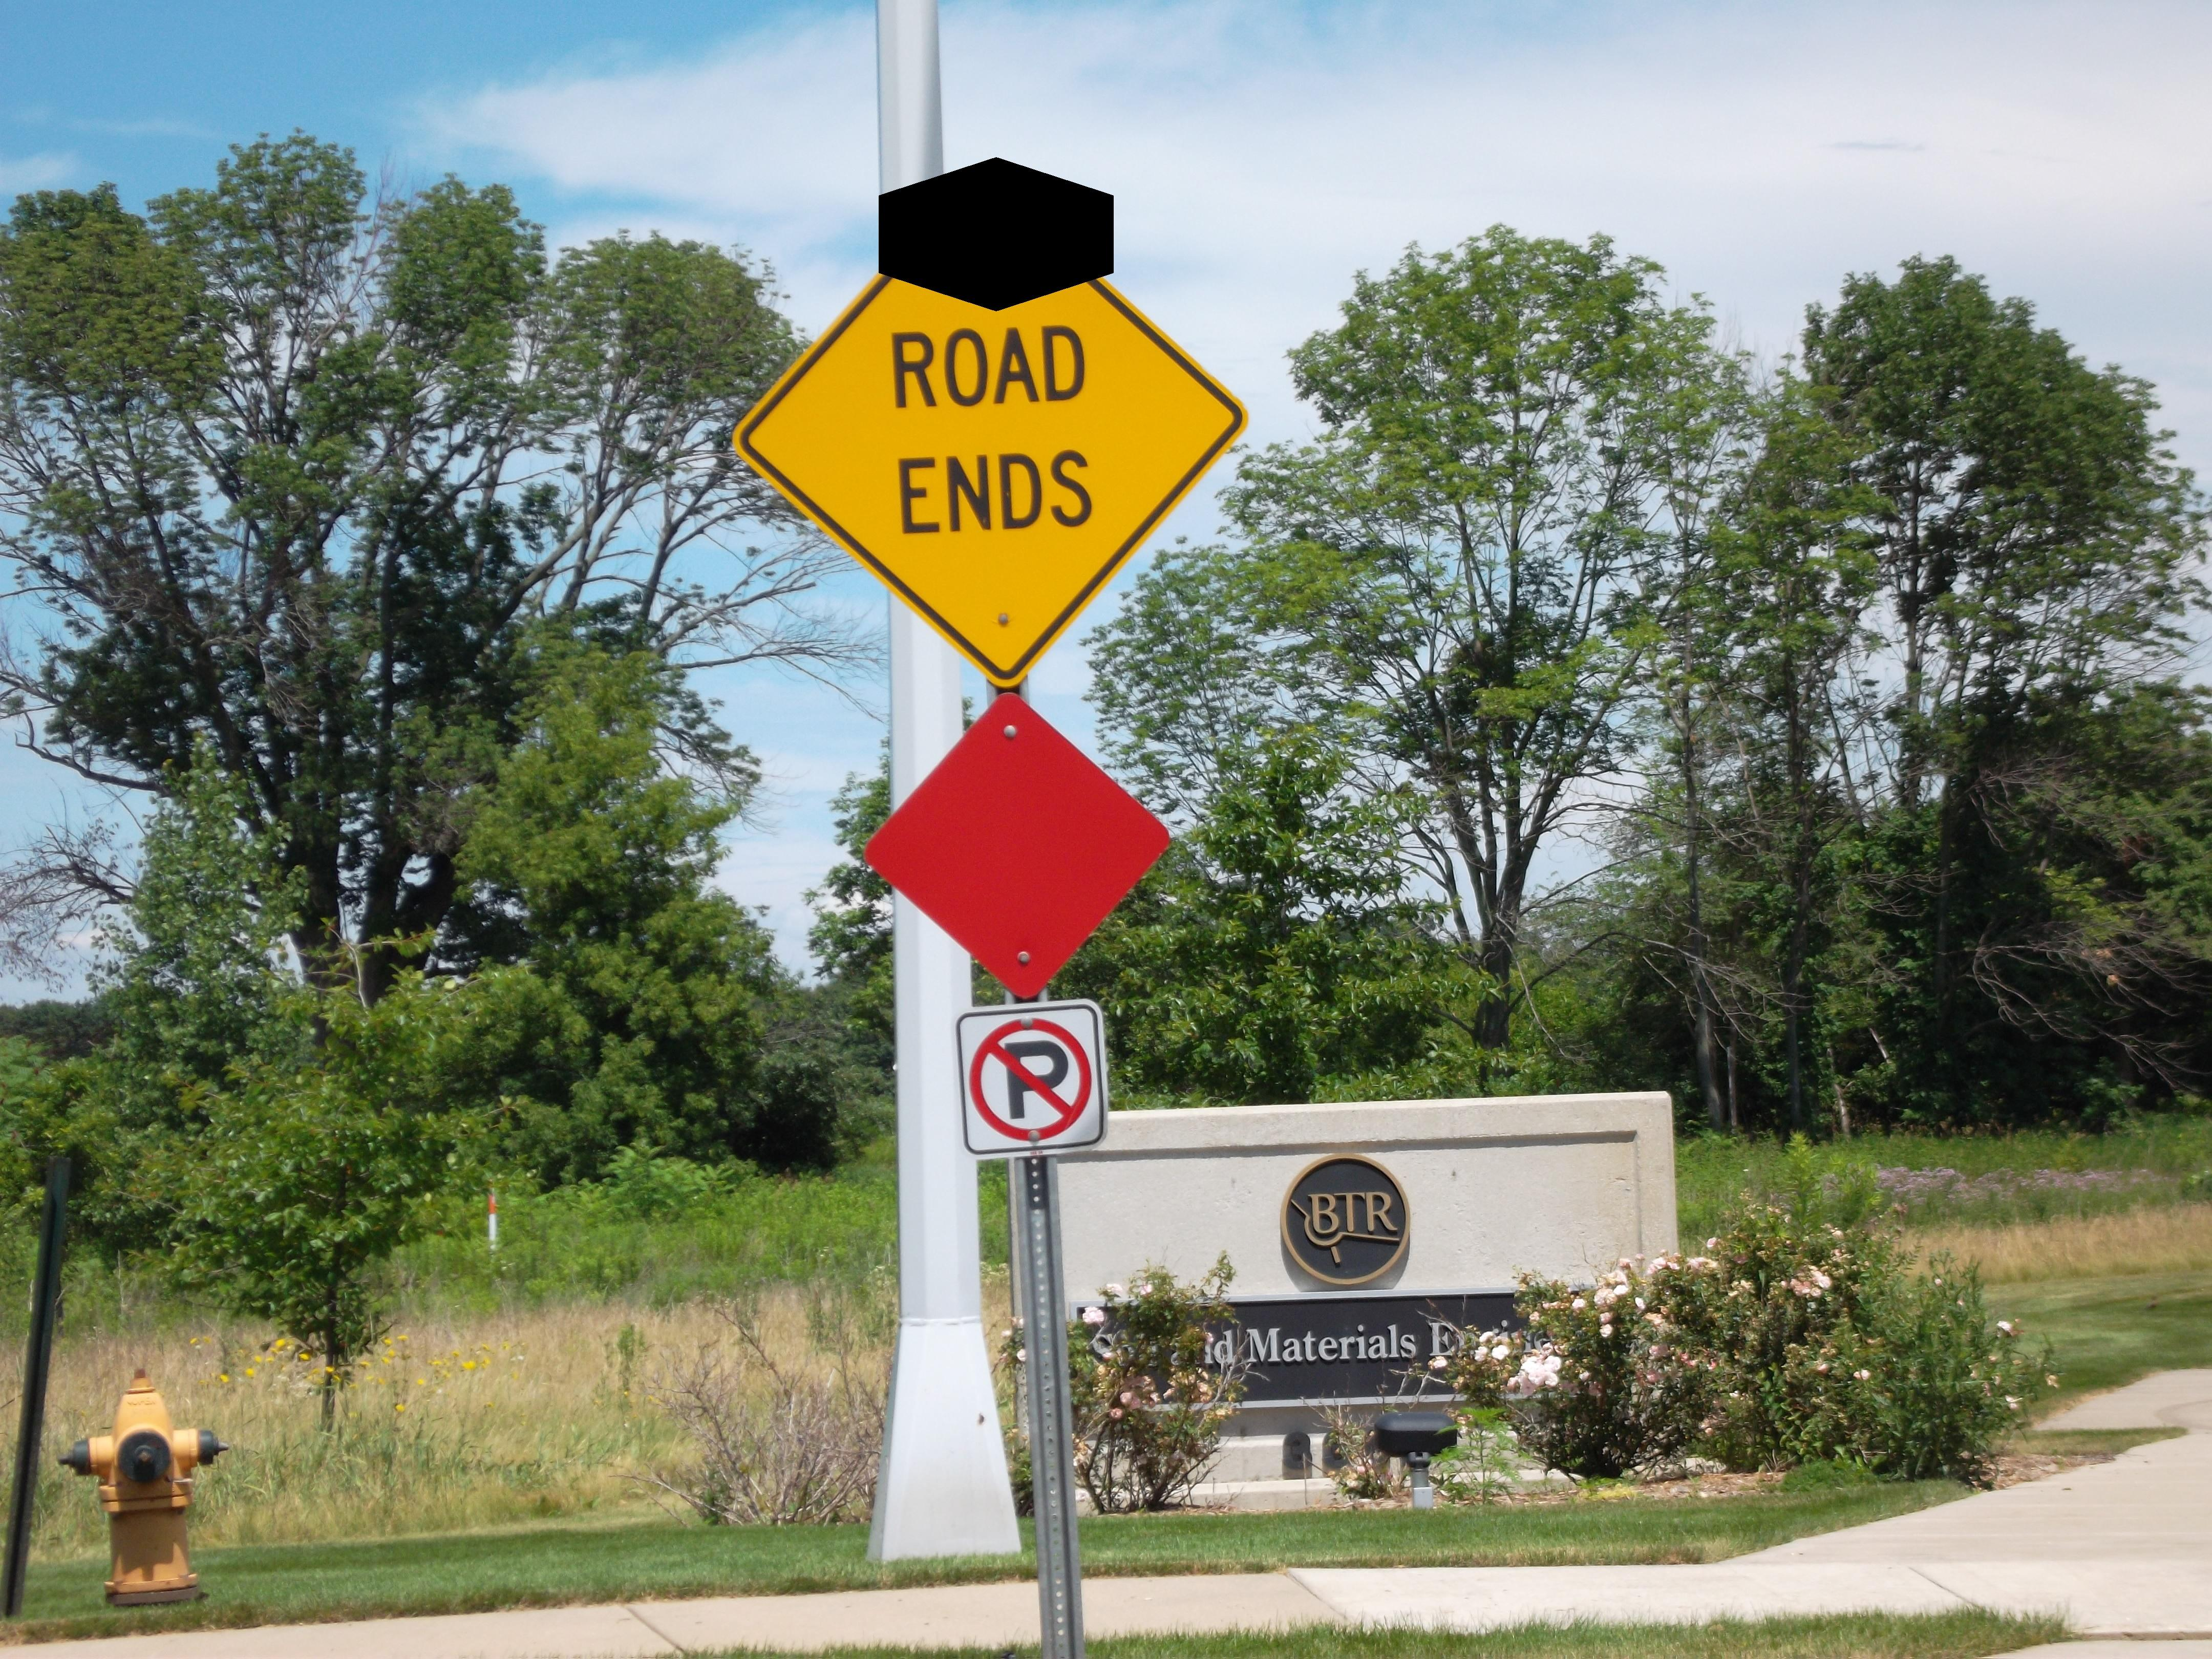regulatory: (949, 997, 1116, 1168)
warning: (733, 200, 1256, 683)
